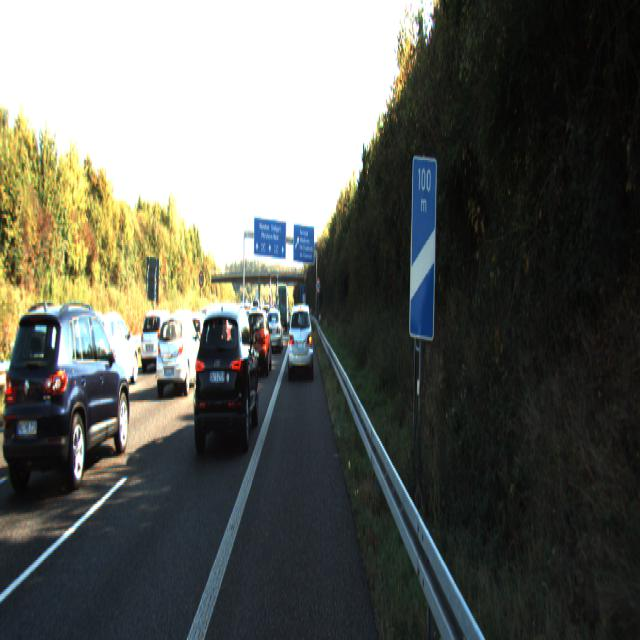Car: (0, 299, 130, 504), (191, 300, 260, 460), (78, 308, 139, 395), (154, 312, 202, 398), (140, 308, 178, 373), (288, 301, 314, 380), (243, 308, 273, 376), (265, 311, 284, 355), (276, 284, 288, 332)
